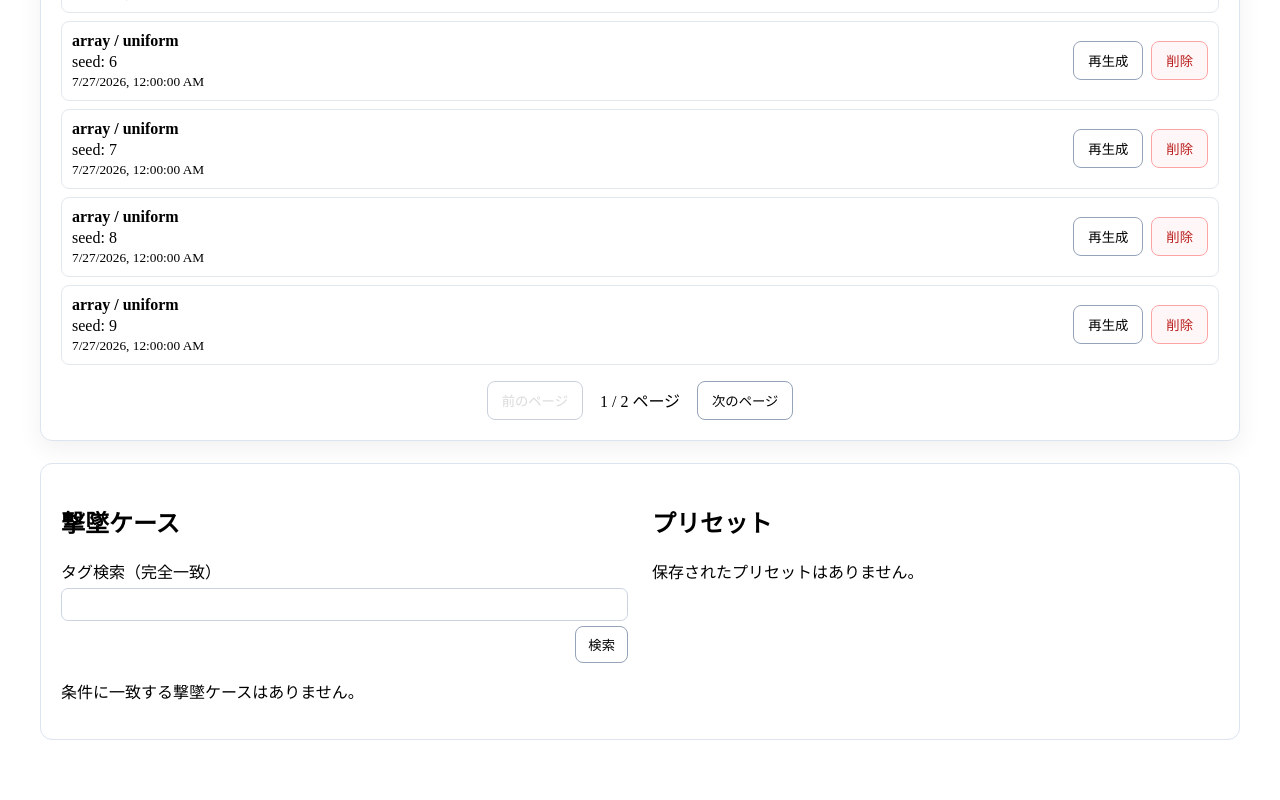
it: returns to the previous server page after deleting its last history item
This screenshot has width=1280, height=800.
(page scrolled)
Step 1. Click the button "次のページ" → (745, 400), box [697, 381, 793, 420]
(page scrolled)
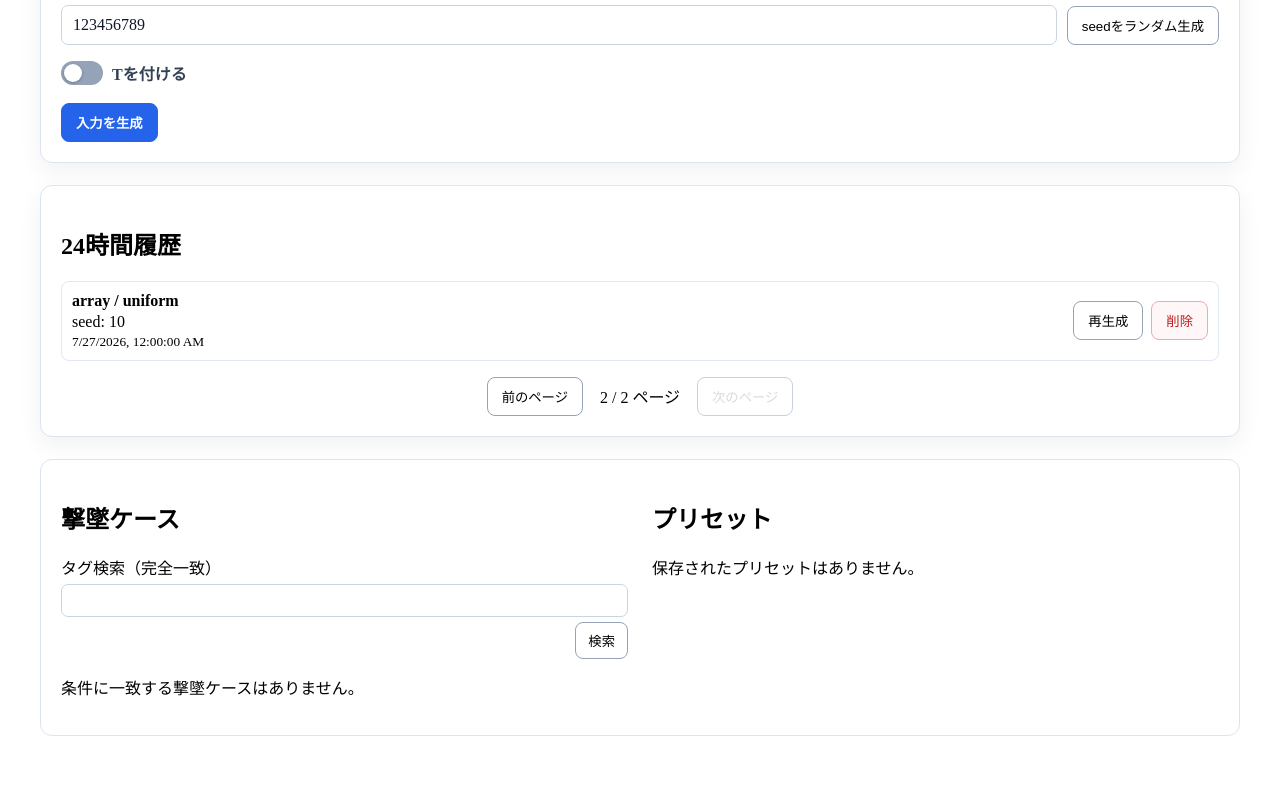
Check: the text "seed: 10" is shown, box [72, 313, 125, 330]
Step 2. Click the button "削除" → (1180, 321), box [1151, 301, 1208, 340]
(page scrolled)
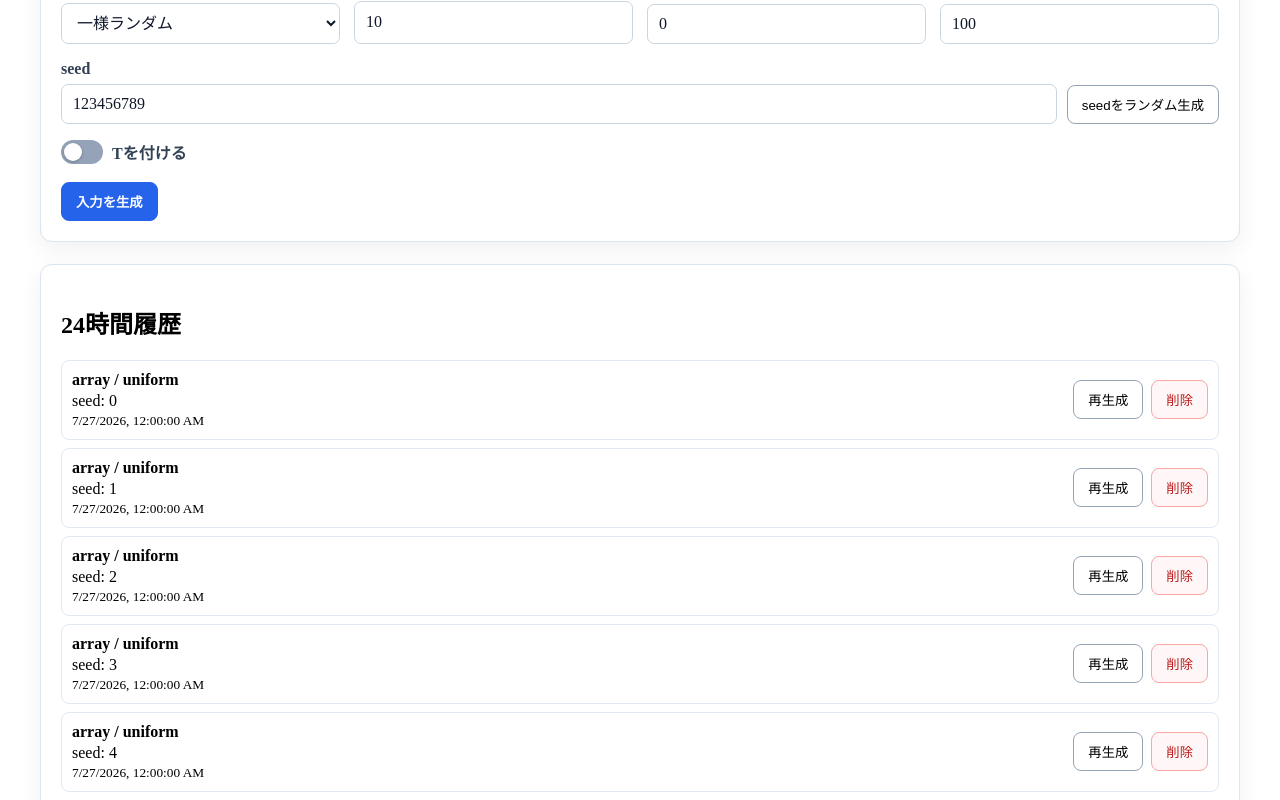
Check: the text "seed: 0" is shown, box [72, 392, 117, 409]
